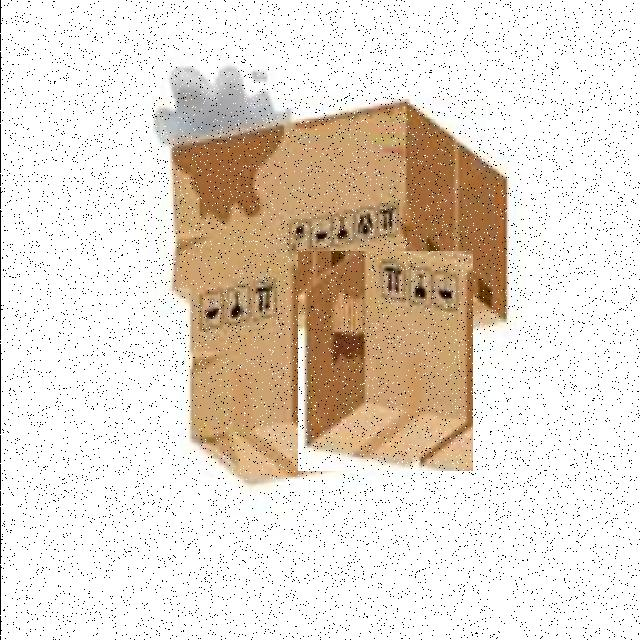defect: (157, 100, 463, 296), (183, 264, 359, 484), (297, 251, 472, 471)
